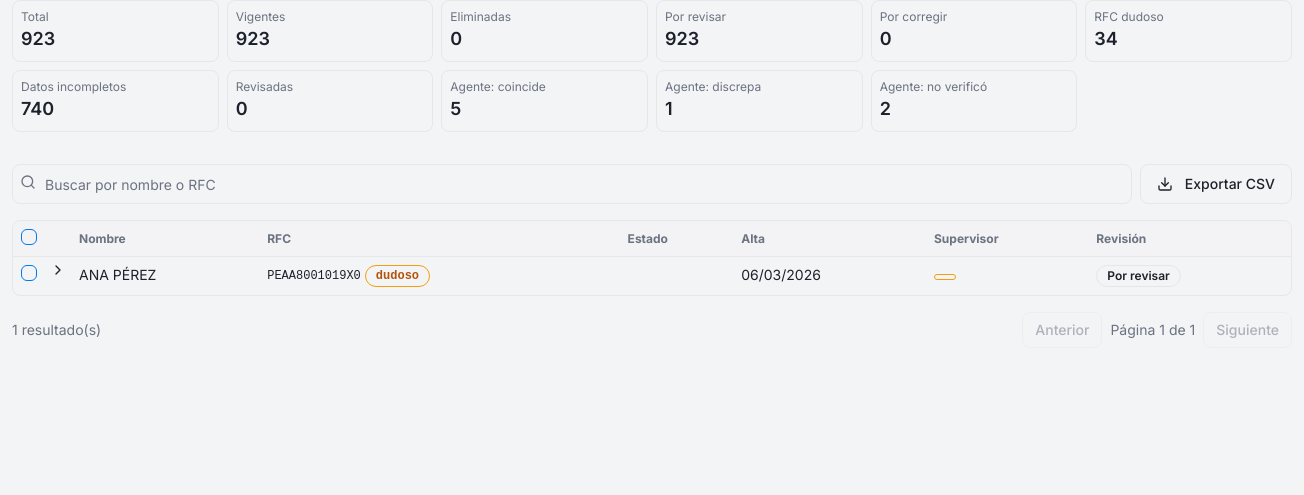
Test case: Lista LPB › el detalle enseña el oficio y el archivo de Dropbox para compararlo con el PDF
This screenshot has width=1304, height=495.
Click the button named "Ver detalle".
click(58, 270)  # box [46,258,70,282]
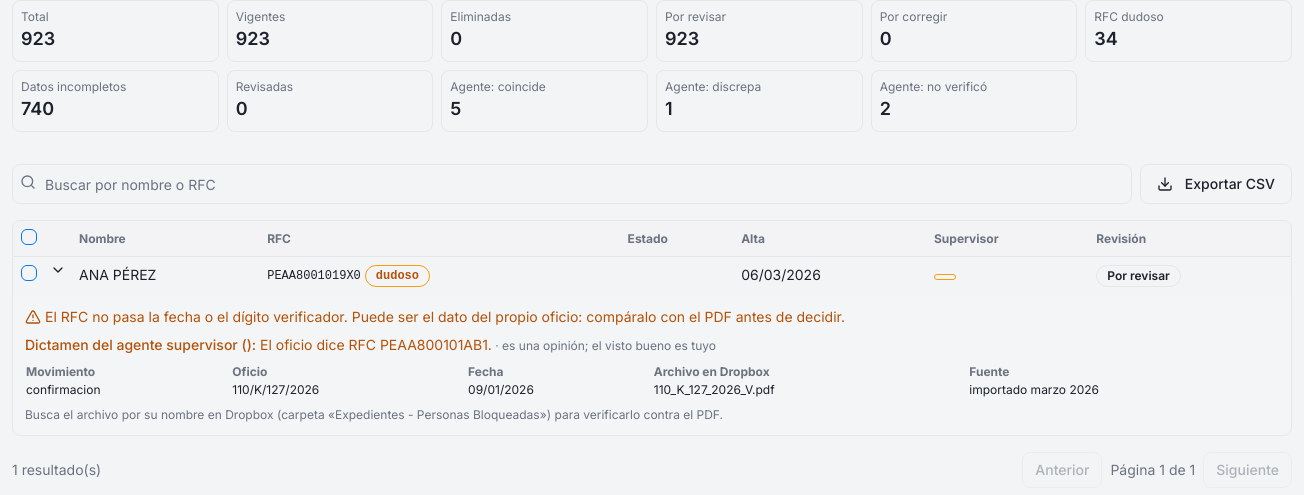
Expected: the text "110_K_127_2026_V.pdf" is shown, [653,381,968,399]
Expected: the text "dígito verificador" is shown, [45,308,845,325]
